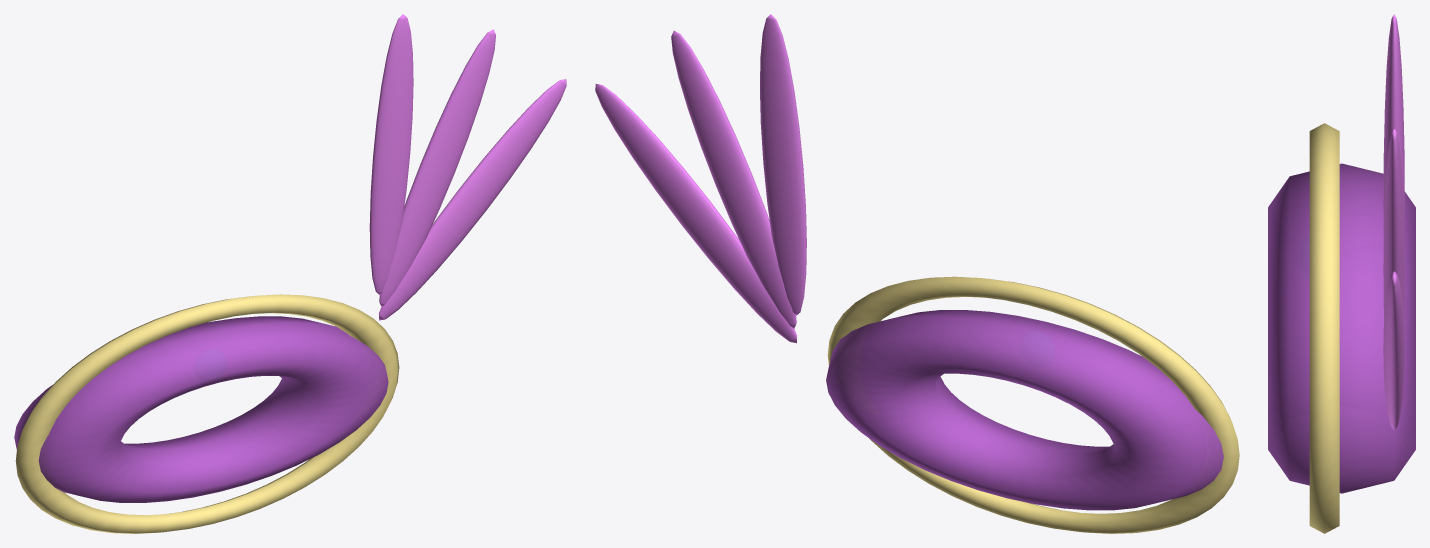
Rendered from fantasy_mask.glb.
3 renders of one model, left to right at view 1: azimuth 30°, elevation 25°; view 2: azimuth 150°, elevation 25°; view 3: azimuth 270°, elevation 25°, orthographic. The views are drawn at different scales.
Visible parts, largest first — view 1: mask, feathers, trim; view 2: mask, feathers, trim; view 3: mask, trim, feathers.
Boxes of the visible parts, x1,y1,x2,y2 form: mask: (14,316,388,502); feathers: (369,14,566,320); trim: (15,294,399,533); mask: (826,310,1223,510); feathers: (595,14,806,343); trim: (827,276,1239,533); mask: (1268,163,1415,493); trim: (1309,123,1339,533); feathers: (1383,14,1404,429).
Bounding box in the file's own units: 2.17 × 1.58 × 0.34.
